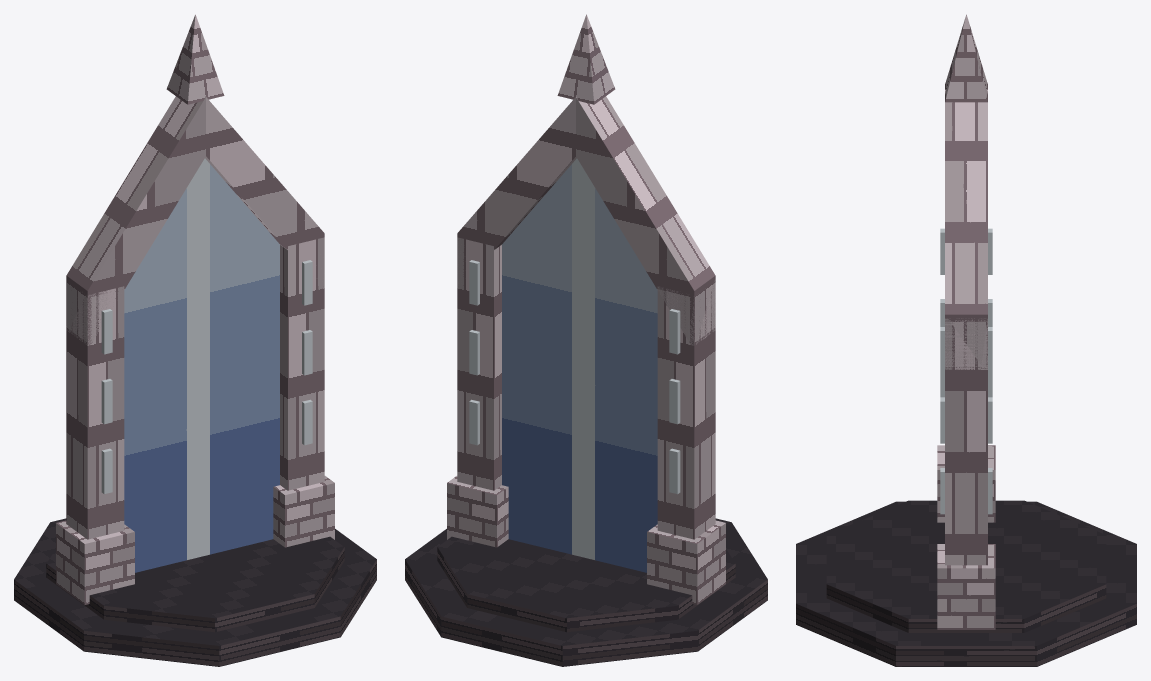
The model's file is teleporter_A_aktiv.glb.
The picture shows the model from 3 angles, left to right: view 1: azimuth 30°, elevation 25°; view 2: azimuth 150°, elevation 25°; view 3: azimuth 270°, elevation 25°; orthographic projection.
Visible parts, largest first — view 1: body, glow; view 2: body, glow; view 3: body.
Part boxes in pixels (left/top/right/bottom): body: left=14, top=14, right=376, bottom=666; glow: left=124, top=158, right=279, bottom=572; body: left=405, top=14, right=767, bottom=666; glow: left=502, top=158, right=657, bottom=572; body: left=796, top=14, right=1136, bottom=666.
Size of the model in its own units: 1.76 by 3.3 by 1.76.
Materials: 1 (1 with a texture image).
